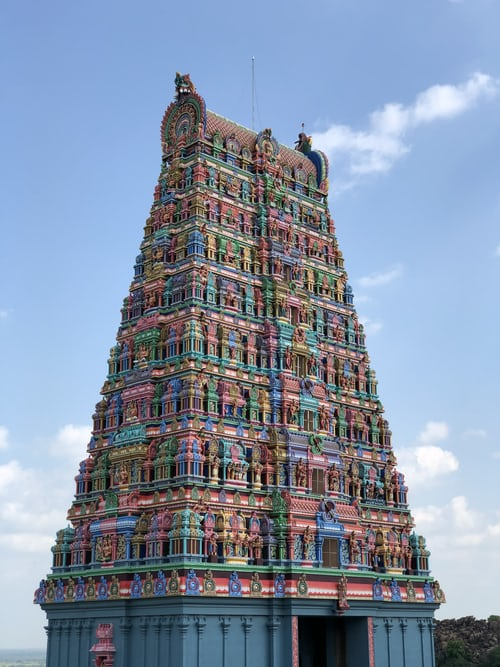Temple: (34, 74, 447, 646)
